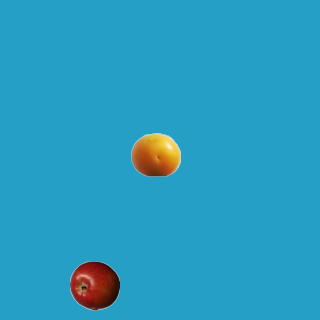Apple Braeburn: (69, 260, 119, 310)
Cherry Wax Yellow: (130, 129, 180, 179)
